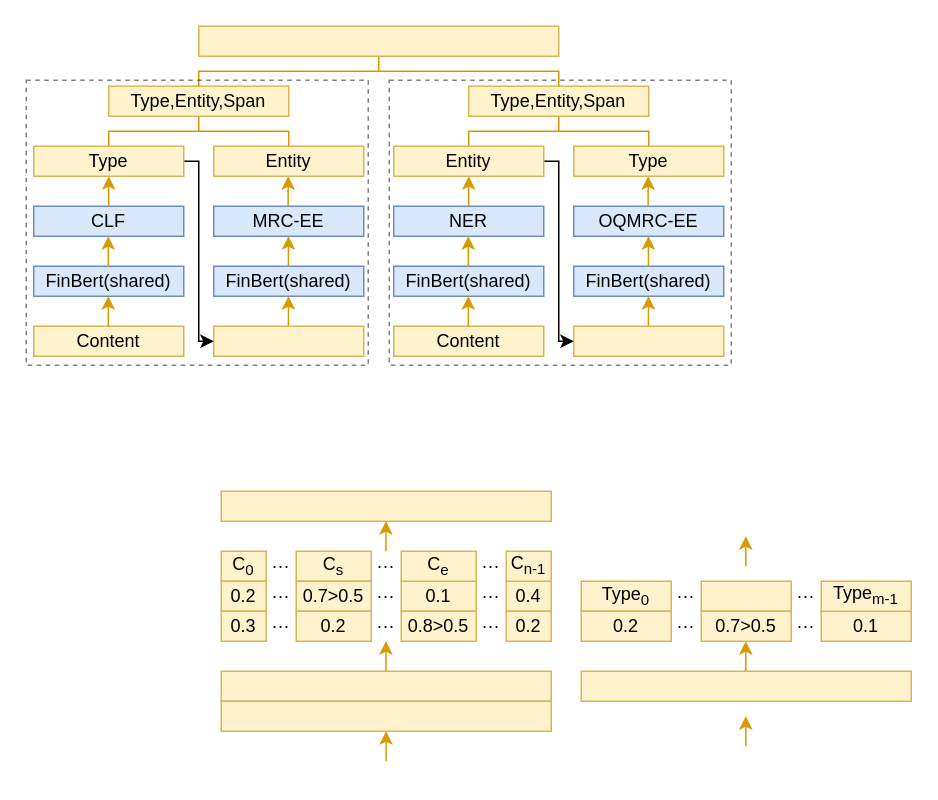
Image size: 938x800. Some labels were removed from this diagram. The centre of each missing label's shape, as x and y in pixels:
Ensemble:Type,Entity,Span: the point at 378,40
Entity,Content: the point at 648,340
Output:[C s C e ]: the point at 385,505
Score:[S 0 ,...,S m-1 ]: the point at 745,685
Span of End:[S 0 ,...,S n -1 ]: the point at 385,715
Span of Start:[S 0 ,...,S n -1 ]: the point at 385,685
Type i: the point at 745,595
Type,Content: the point at 288,340
